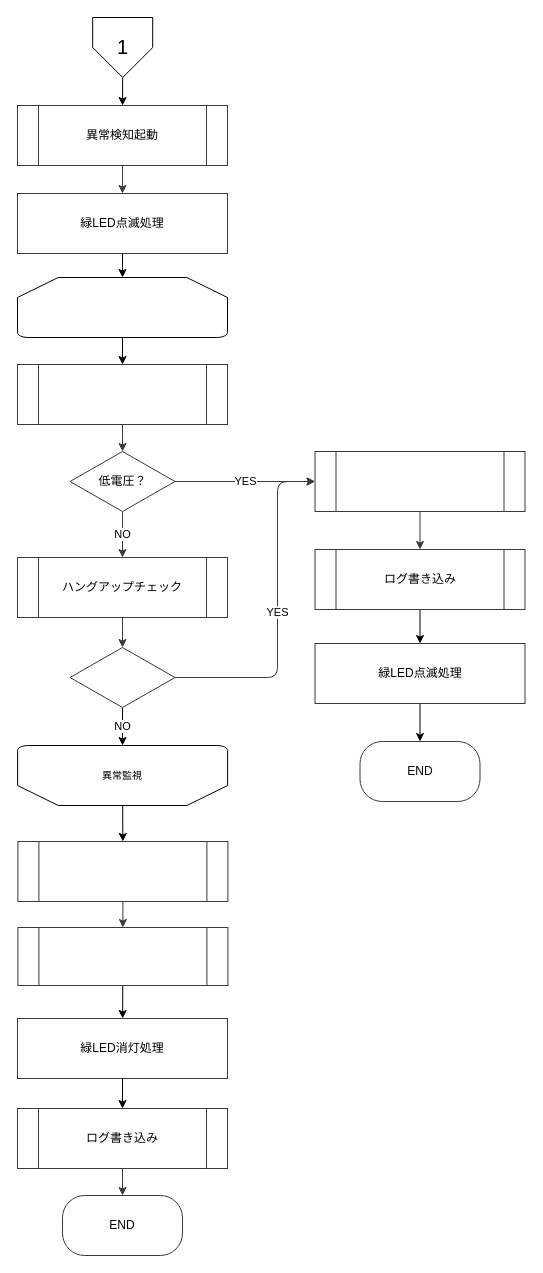
Some shapes in this 543 by 1273 pixel diagram are drawn without their labels. The centre of each missing label's shape, as x and y in pixels:
tshark プロセス停止: (122,956)
tshark 終了: (419,481)
wifiprove.service ストップ: (122,871)
ハング？: (122,677)
異常監視 shutdown: (122,307)
電圧チェック: (122,394)
